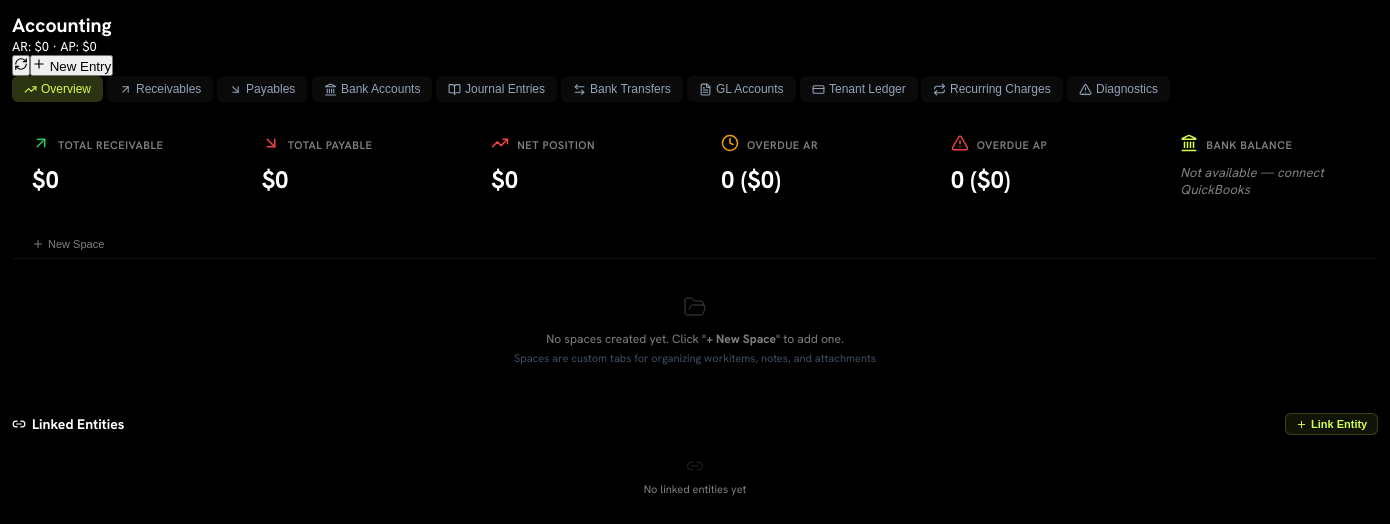
Test case: AccountingModule · empty account → honest empty states, never the old hardcoded arrays › Journal Entries: honest empty state, no fake JE-2026-* rows
Click the button "Journal Entries" at {"x": 497, "y": 89}, box [436,76,557,102]
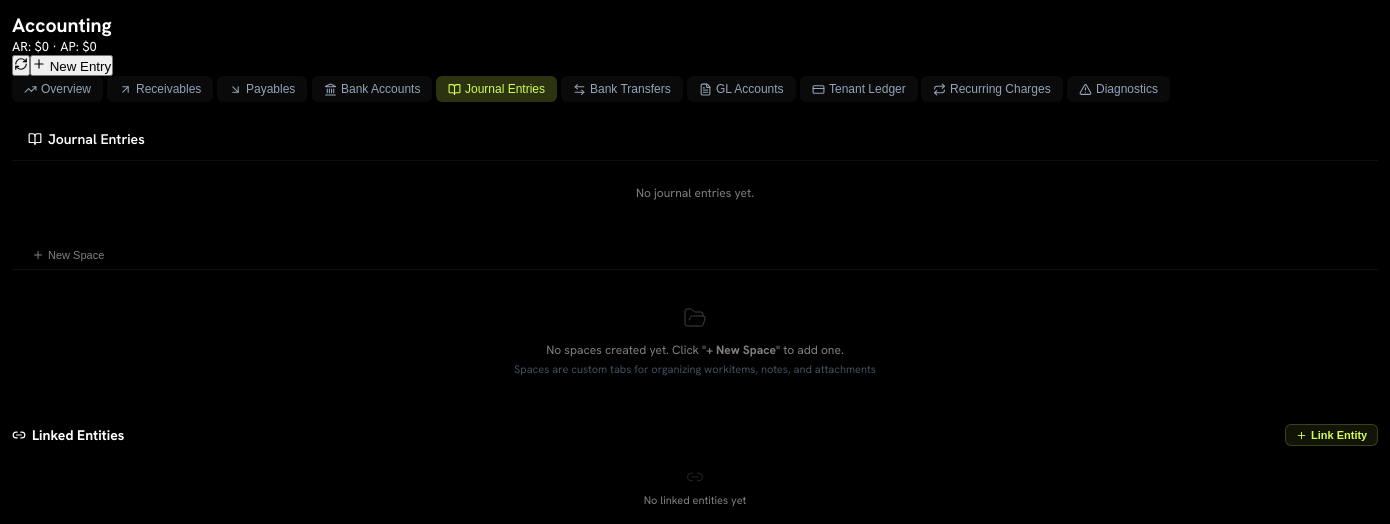
Check: the text "No journal entries yet." is shown, box [636,185,754,201]
